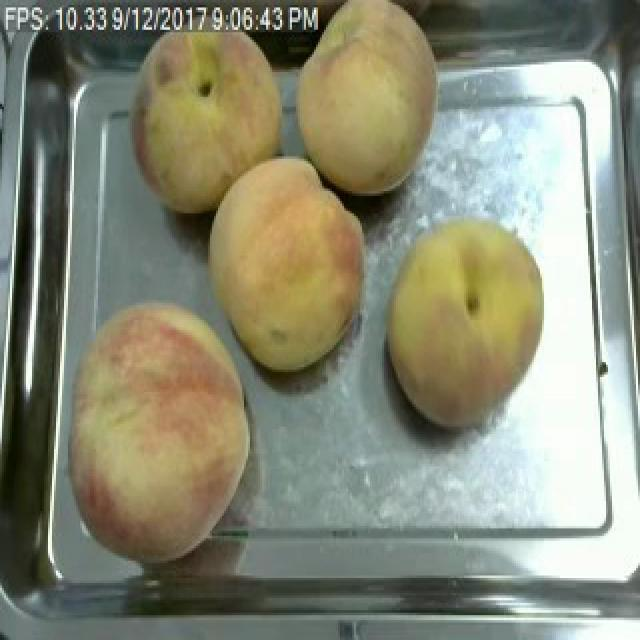Fruit: (44, 288, 260, 570), (196, 146, 376, 380), (376, 208, 554, 436), (118, 5, 296, 223), (282, 0, 448, 203)
